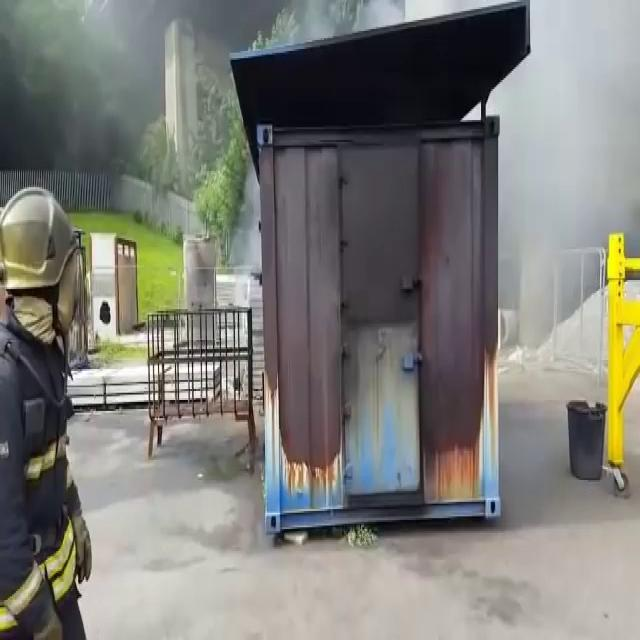Smoke: (516, 29, 640, 167)
